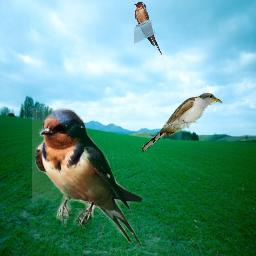Cuckoo: (140, 92, 223, 152)
Swallow: (32, 108, 142, 248), (134, 1, 162, 55)
